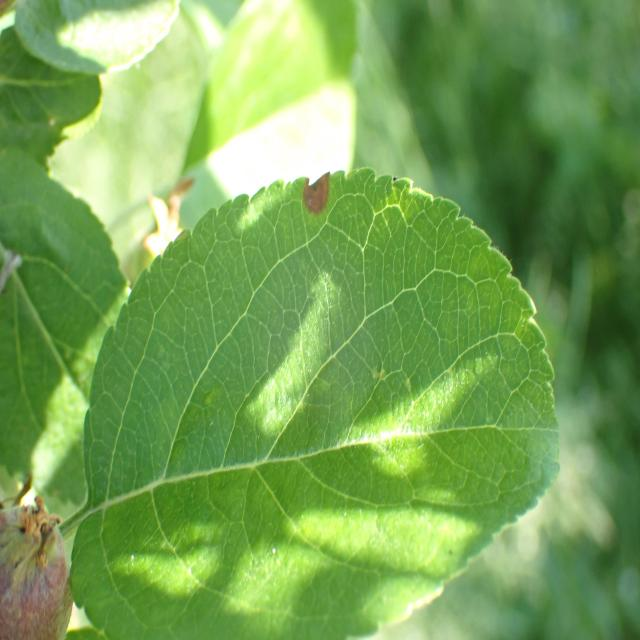Black Rot: (268, 151, 344, 253)
